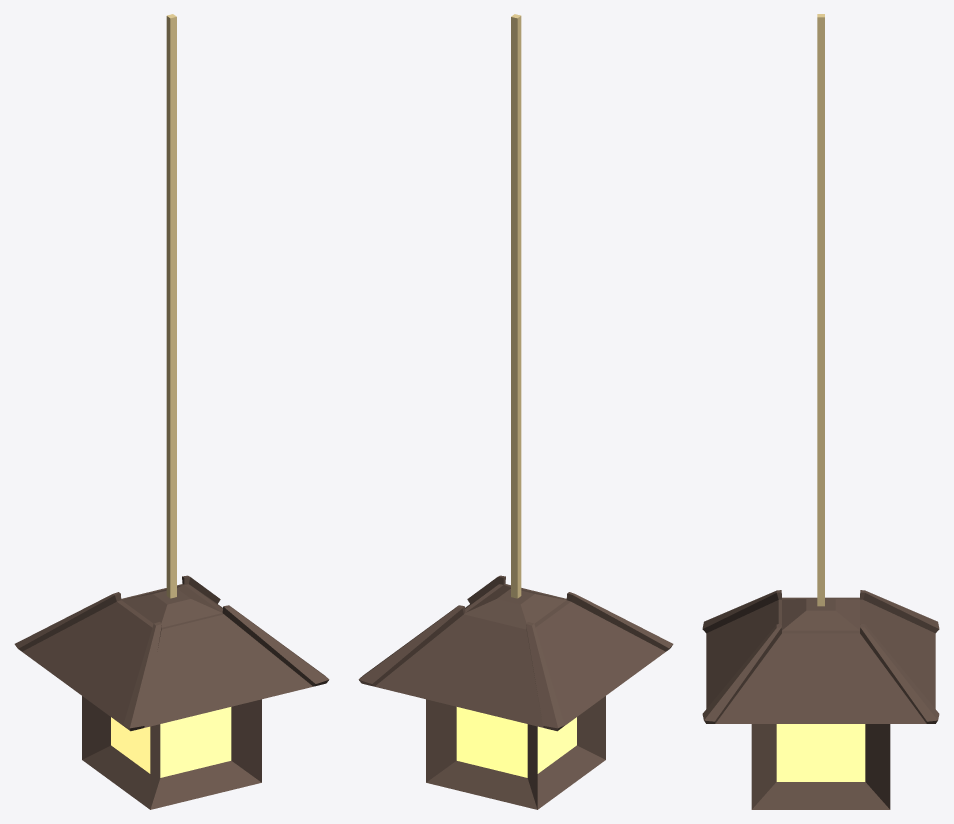
The model's file is set_1_lamp.glb.
3 renders of one model, left to right at view 1: azimuth 30°, elevation 25°; view 2: azimuth 150°, elevation 25°; view 3: azimuth 270°, elevation 25°, orthographic.
Visible parts, largest first — view 1: Lamp; view 2: Lamp; view 3: Lamp.
Boxes of the visible parts, bbox=[...] form: Lamp: bbox=[14, 14, 329, 809]; Lamp: bbox=[358, 14, 673, 809]; Lamp: bbox=[702, 14, 939, 809].
Size of the model in its own units: 0.491 by 1.75 by 0.491.
